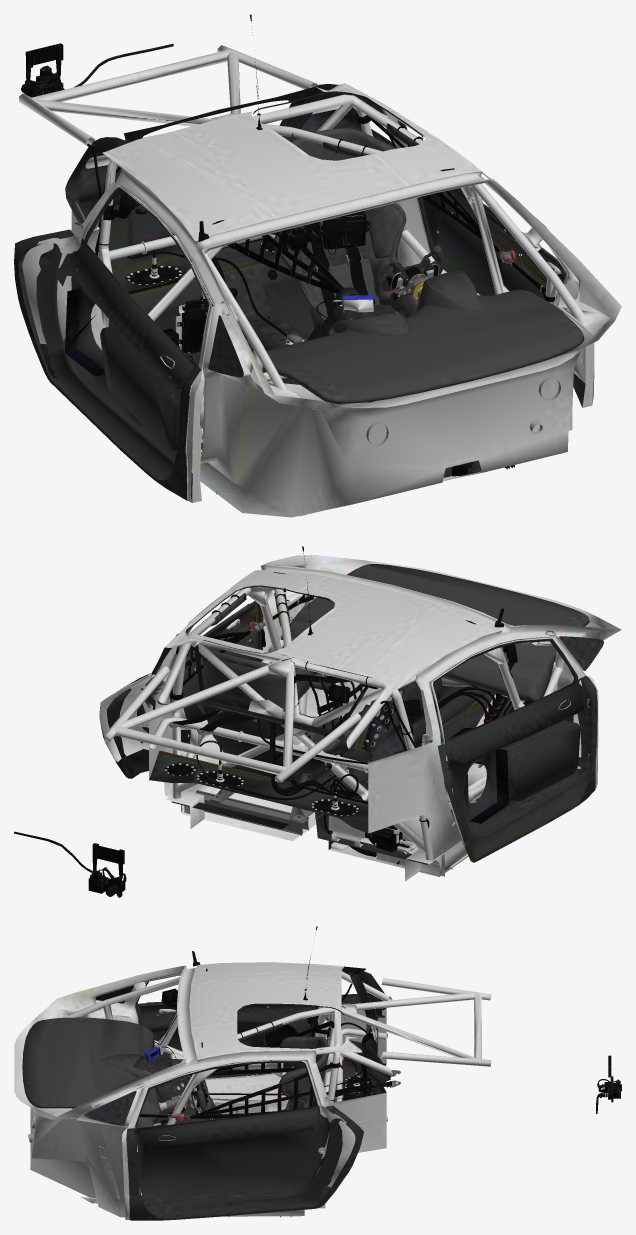
Rendered from gt_lam_int.glb.
The picture shows the model from 3 angles, top to bottom: view 1: azimuth 30°, elevation 25°; view 2: azimuth 150°, elevation 25°; view 3: azimuth 270°, elevation 25°; orthographic projection. The views are drawn at different scales.
Visible parts, largest first — view 1: Interior-WhitePaint_n3d, Interior-CarbonFiber_n3d, Interior-Alcantara_n3d, Interior-BlackPlastic_n3d, Interior-Nets_n3d, Interior-BlackPaint_n3d, Interior-Holes_n3d, Interior-Belts_n3d, Interior-Rubber_n3d, Interior-Aluminum_n3d, Interior-Steel_n3d; view 2: Interior-WhitePaint_n3d, Interior-CarbonFiber_n3d, Interior-Alcantara_n3d, Interior-BlackPlastic_n3d, Interior-Aluminum_n3d, Interior-Steel_n3d, Interior-Nets_n3d, Interior-BlackPaint_n3d, Interior-Holes_n3d, Interior-Rubber_n3d, Interior-Belts_n3d; view 3: Interior-WhitePaint_n3d, Interior-CarbonFiber_n3d, Interior-Alcantara_n3d, Interior-Nets_n3d, Interior-BlackPlastic_n3d, Interior-Rubber_n3d, Interior-Aluminum_n3d, Interior-Belts_n3d, Interior-Steel_n3d.
Boxes of the visible parts, left/top/right/bottom form: Interior-WhitePaint_n3d: left=19, top=45, right=621, bottom=517; Interior-CarbonFiber_n3d: left=14, top=84, right=585, bottom=501; Interior-Alcantara_n3d: left=253, top=128, right=584, bottom=403; Interior-BlackPlastic_n3d: left=21, top=14, right=454, bottom=453; Interior-Nets_n3d: left=227, top=112, right=556, bottom=301; Interior-BlackPaint_n3d: left=126, top=208, right=514, bottom=476; Interior-Holes_n3d: left=65, top=288, right=104, bottom=376; Interior-Belts_n3d: left=311, top=216, right=368, bottom=315; Interior-Rubber_n3d: left=84, top=120, right=566, bottom=450; Interior-Aluminum_n3d: left=62, top=212, right=561, bottom=442; Interior-Steel_n3d: left=286, top=248, right=543, bottom=343; Interior-WhitePaint_n3d: left=99, top=555, right=621, bottom=881; Interior-CarbonFiber_n3d: left=99, top=585, right=603, bottom=864; Interior-Alcantara_n3d: left=196, top=564, right=589, bottom=783; Interior-BlackPlastic_n3d: left=14, top=546, right=533, bottom=897; Interior-Aluminum_n3d: left=140, top=619, right=590, bottom=866; Interior-Steel_n3d: left=169, top=600, right=479, bottom=835; Interior-Nets_n3d: left=170, top=594, right=369, bottom=758; Interior-BlackPaint_n3d: left=164, top=685, right=411, bottom=847; Interior-Holes_n3d: left=470, top=749, right=508, bottom=823; Interior-Rubber_n3d: left=171, top=604, right=577, bottom=745; Interior-Belts_n3d: left=172, top=709, right=310, bottom=738; Interior-WhitePaint_n3d: left=14, top=962, right=491, bottom=1219; Interior-CarbonFiber_n3d: left=85, top=966, right=390, bottom=1220; Interior-Alcantara_n3d: left=22, top=1017, right=328, bottom=1127; Interior-Nets_n3d: left=140, top=1020, right=342, bottom=1123; Interior-BlackPlastic_n3d: left=146, top=926, right=621, bottom=1125; Interior-Rubber_n3d: left=135, top=975, right=319, bottom=1127; Interior-Aluminum_n3d: left=137, top=1004, right=376, bottom=1194; Interior-Belts_n3d: left=324, top=1071, right=392, bottom=1097; Interior-Steel_n3d: left=166, top=1070, right=400, bottom=1217.
Size of the model in its own units: 1.83 by 1.49 by 3.4.
1 material, 1 textured.
